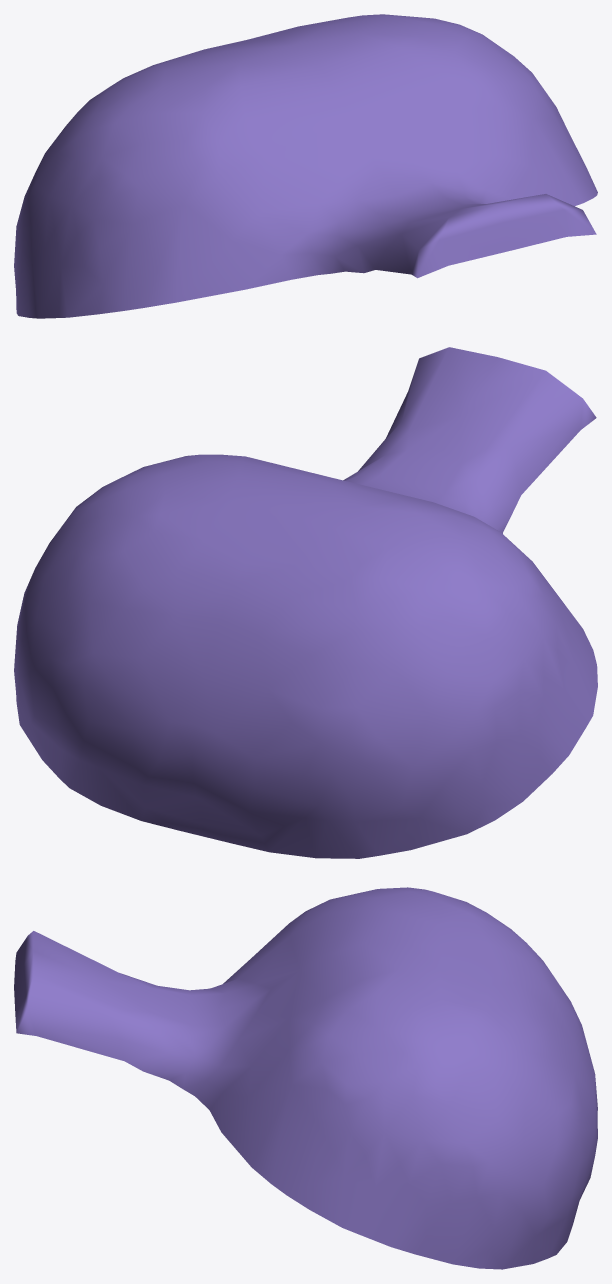
3 renders of one model, top to bottom at view 1: azimuth 30°, elevation 25°; view 2: azimuth 150°, elevation 25°; view 3: azimuth 270°, elevation 25°, orthographic. The views are drawn at different scales.
Parts seen in each view (by area): view 1: 神经垂体; view 2: 神经垂体; view 3: 神经垂体.
Part boxes in pixels (x1,y1,x2,y2): 神经垂体: (14, 14, 597, 318); 神经垂体: (14, 347, 597, 858); 神经垂体: (14, 887, 597, 1269).
Bounding box in the file's own units: 0.0173 × 0.00857 × 0.0179.
